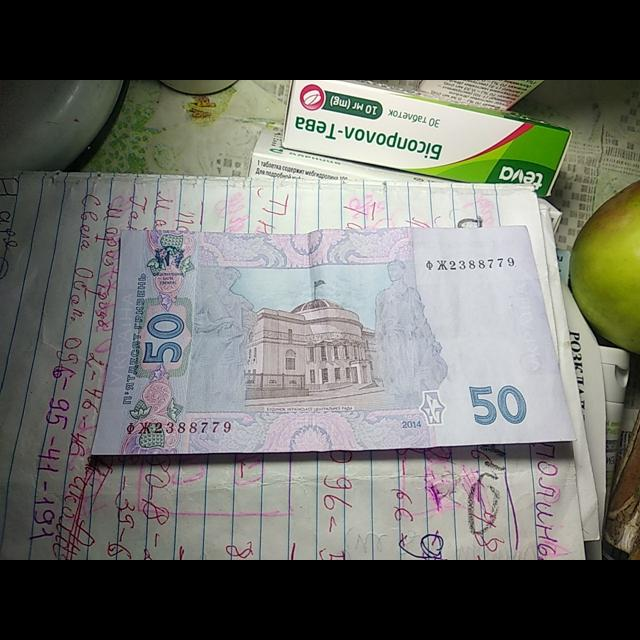50uah: (92, 227, 578, 456)
